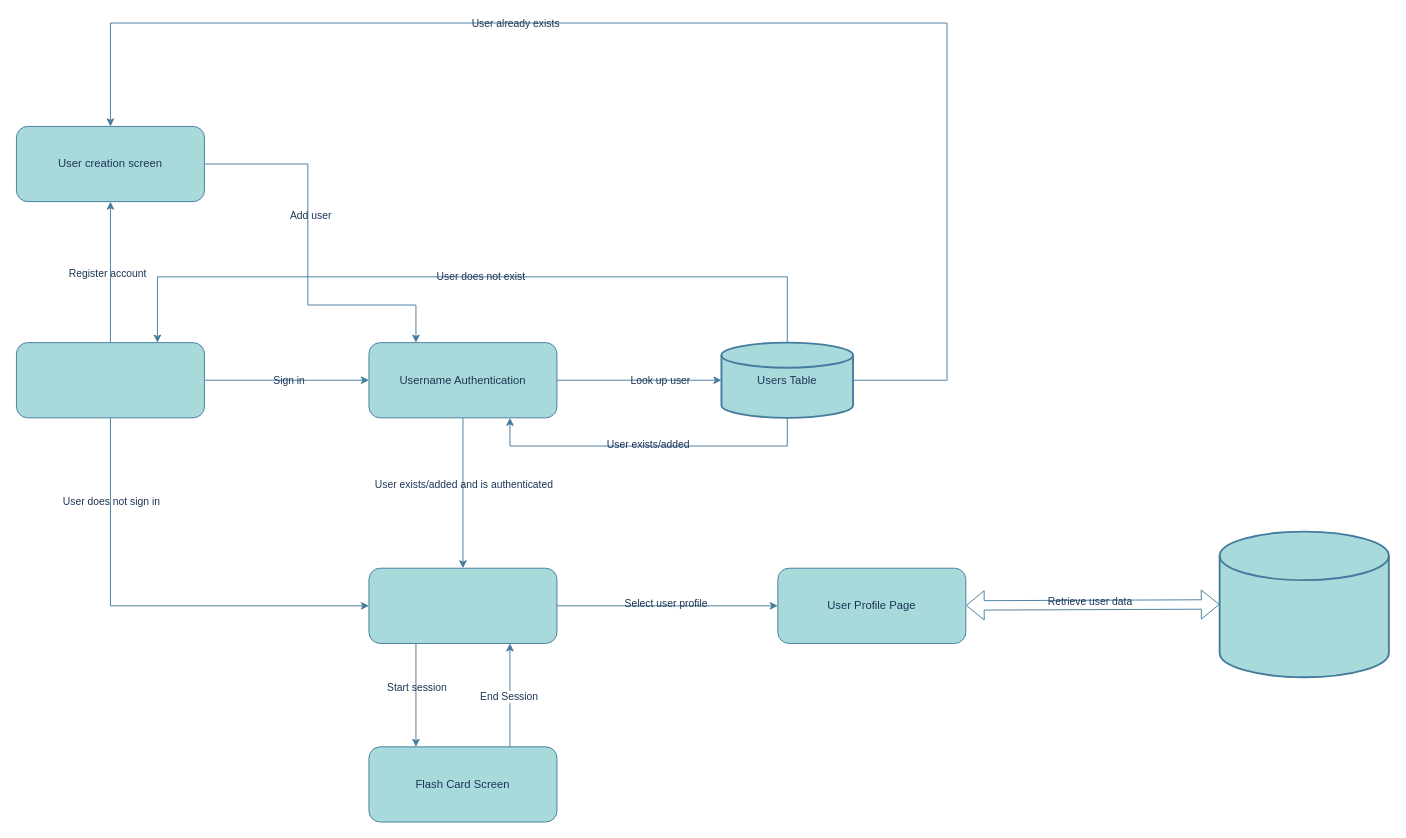
Some shapes in this 1406 by 838 pixel diagram are drawn without their labels. The box of each missing label's shape, as (x1, y1, x2, y2) in pixels:
Login Screen: (16, 342, 204, 418)
Main Screen/Customize Card Set: (368, 567, 557, 643)
User data like statistics, personal data, custom card sets etc.: (1218, 530, 1389, 678)
